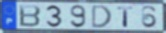3: (45, 4, 64, 29)
6: (141, 5, 158, 29)
9: (69, 4, 87, 29)
B: (18, 4, 42, 28)
D: (91, 4, 113, 29)
T: (117, 7, 135, 29)
